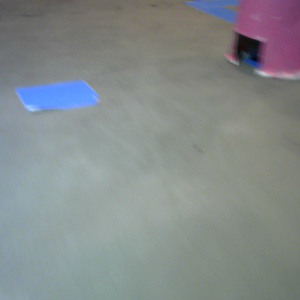right: (224, 1, 300, 79)
